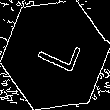L_NW: (28, 31, 82, 79)
